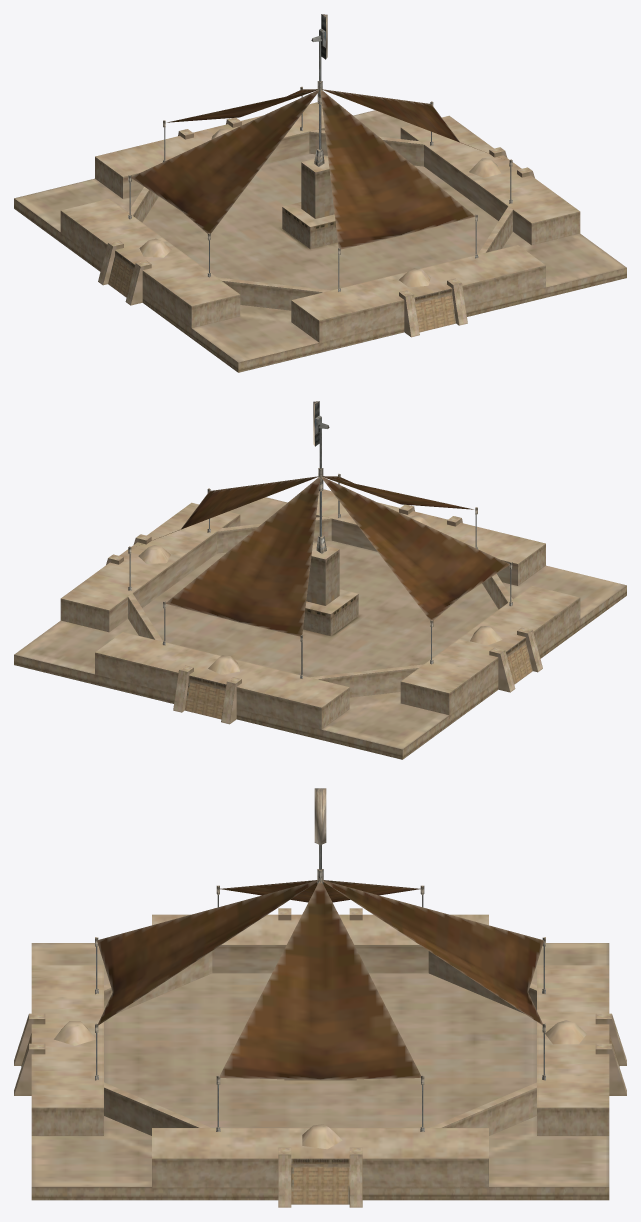
The model's file is mun_tato_bank_s01_l3.fbx.
3 renders of one model, top to bottom at view 1: azimuth 30°, elevation 25°; view 2: azimuth 150°, elevation 25°; view 3: azimuth 270°, elevation 25°, orthographic. The views are drawn at different scales.
Parts seen in each view (by area): view 1: mesh_node; view 2: mesh_node; view 3: mesh_node.
Part boxes in pixels (x1,y1,x2,y2): mesh_node: [14, 14, 626, 372]; mesh_node: [14, 401, 626, 759]; mesh_node: [14, 788, 626, 1207].
Size of the model in its own units: 63.68 by 33.46 by 63.68.
Materials: 1 (1 with a texture image).
